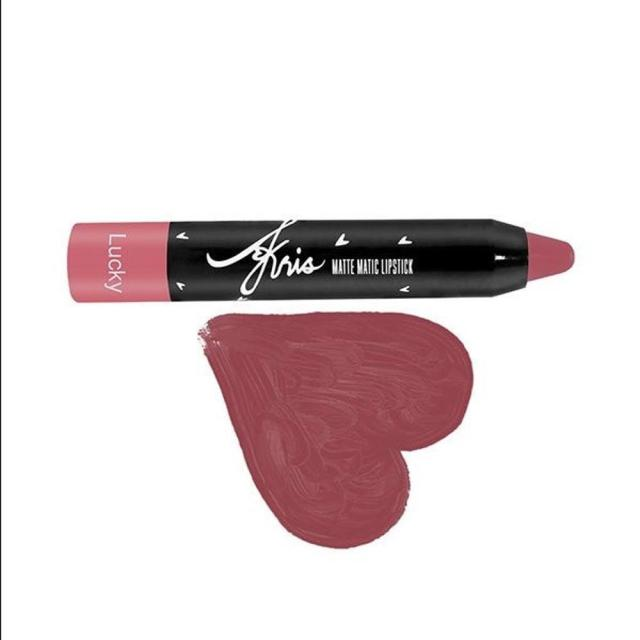lipstick: (50, 195, 589, 327)
